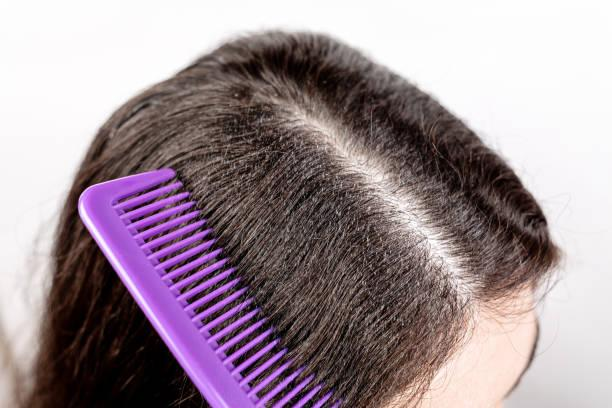dandruff: (295, 192, 368, 229), (254, 131, 305, 174)
